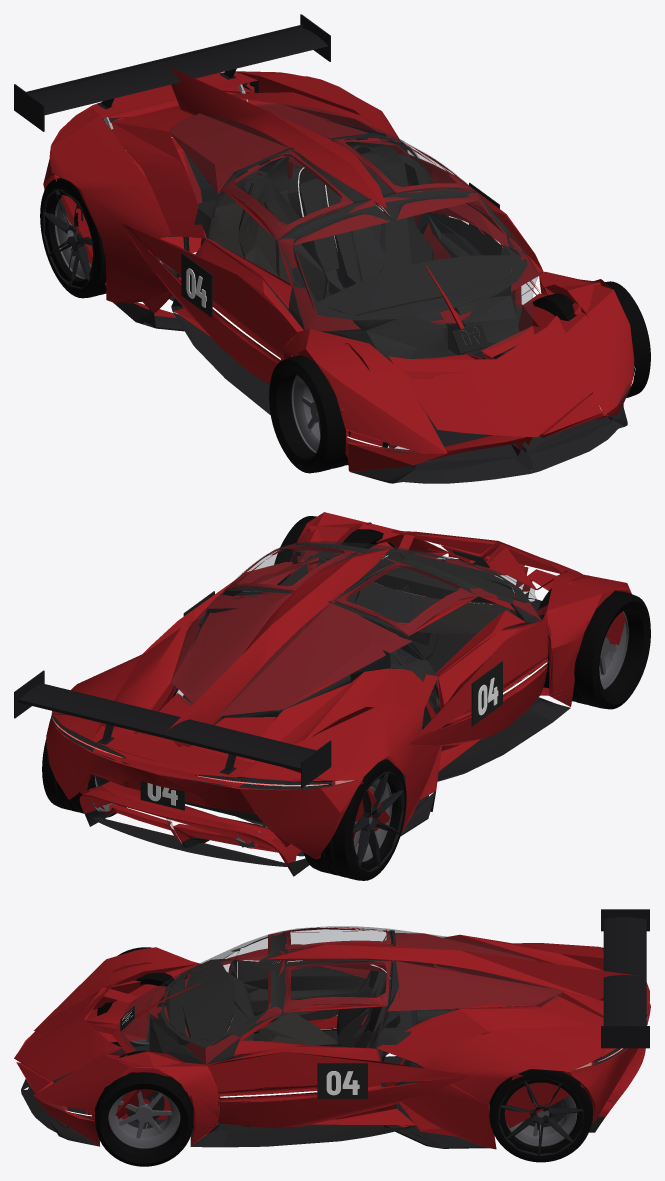
The model's file is vanta_lod0.glb.
The picture shows the model from 3 angles, top to bottom: view 1: azimuth 30°, elevation 25°; view 2: azimuth 150°, elevation 25°; view 3: azimuth 270°, elevation 25°; orthographic projection. The views are drawn at different scales.
Visible parts, largest first — view 1: Body, Wheel_FR, Wheel_RR, Wheel_FL; view 2: Body, Wheel_FR, Wheel_RR, Wheel_FL, Wheel_RL; view 3: Body, Wheel_FL, Wheel_RL, Wheel_FR.
Boxes of the visible parts, x1,y1,x2,y2 form: Body: [14, 14, 635, 483]; Wheel_FR: [269, 355, 388, 473]; Wheel_RR: [40, 177, 106, 298]; Wheel_FL: [532, 281, 650, 397]; Body: [14, 512, 631, 876]; Wheel_FR: [529, 588, 650, 709]; Wheel_RR: [303, 759, 406, 880]; Wheel_FL: [274, 516, 394, 585]; Wheel_RL: [42, 739, 119, 817]; Body: [14, 909, 650, 1155]; Wheel_FL: [95, 1050, 193, 1166]; Wheel_RL: [489, 1069, 592, 1162]; Wheel_FR: [97, 947, 187, 1046].
Bounding box in the file's own units: 2.25 × 1.24 × 4.54.
6 materials, 1 textured.
